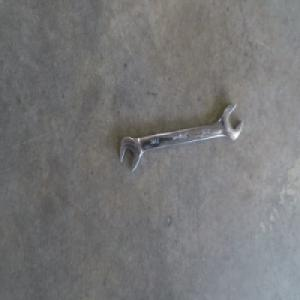Wrench: (118, 103, 242, 171)
